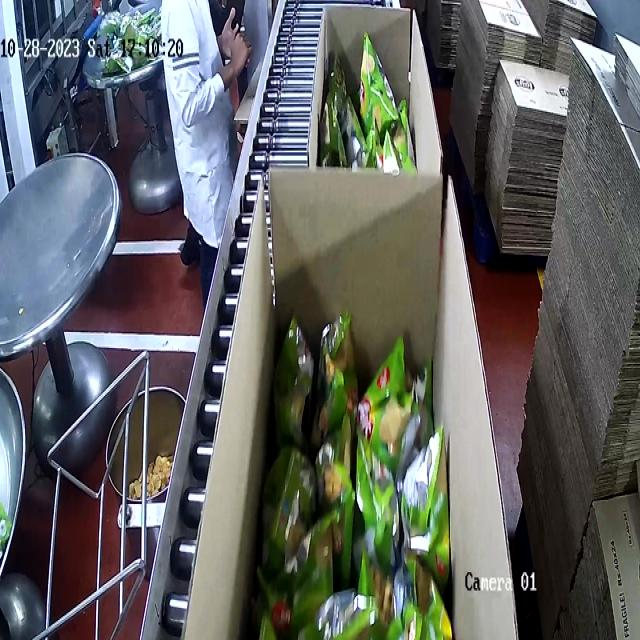YOGURT_HERB: (255, 310, 452, 638), (317, 28, 417, 175)
